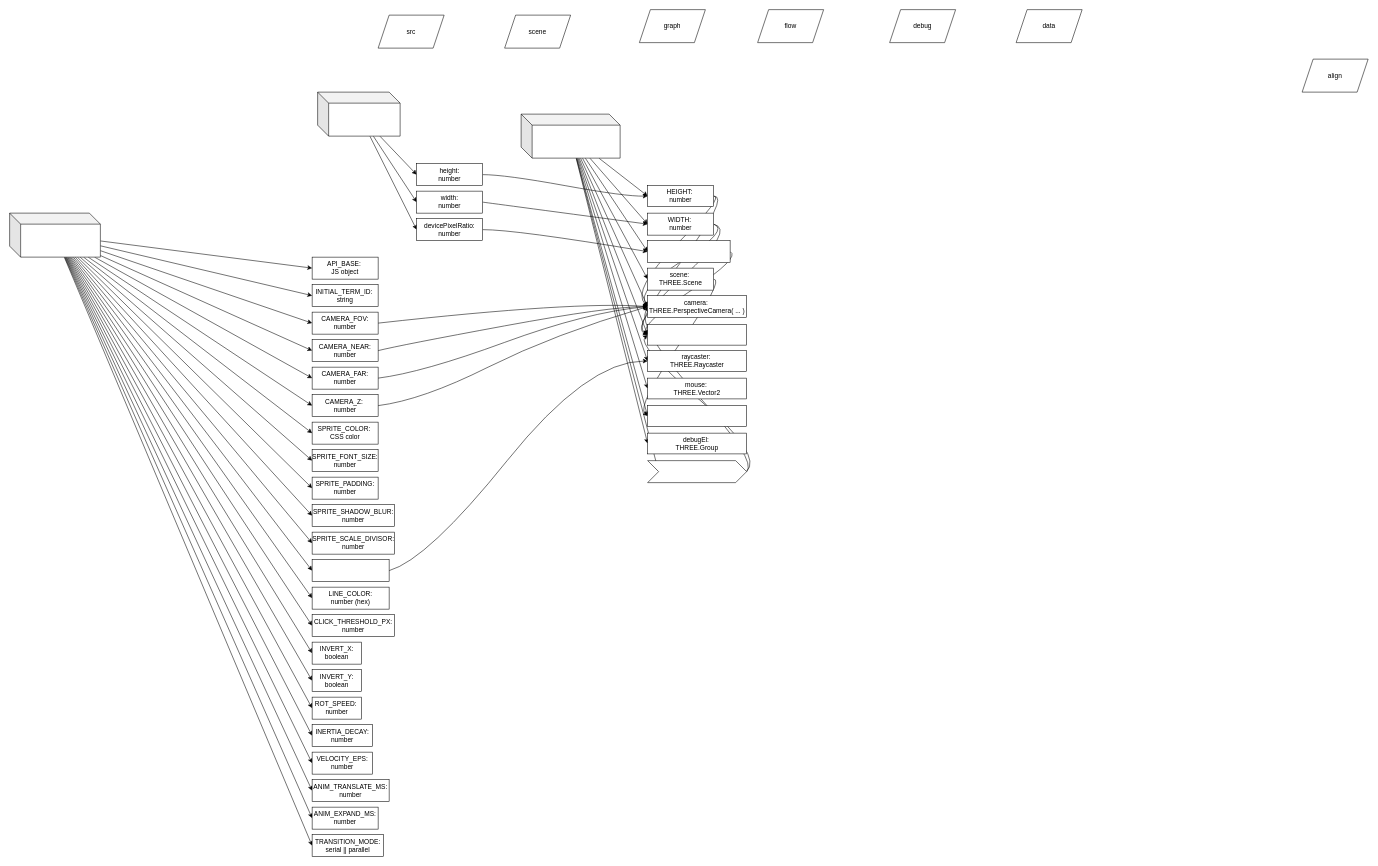
This 1378x866 diagram has some shape labels left out. Here are the shapes that lost their labels. From the top down, the centre of each, then its label:
At pixel 358 114: "BROWSER WINDOW".
At pixel 570 136: "SCENE.JS".
At pixel 54 235: "CONFIG.JS".
At pixel 688 251: "DEVICE_PIXEL_RATIO: number".
At pixel 697 334: "renderer: THREE.WebGLRenderer".
At pixel 697 415: "nodeGroup: THREE.Group".
At pixel 697 471: "attachResize( )".
At pixel 350 570: "SPRITE_THRESHOLD: number".
